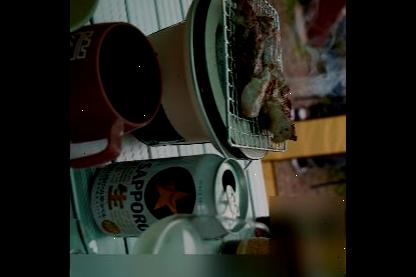Can: (90, 152, 250, 240)
